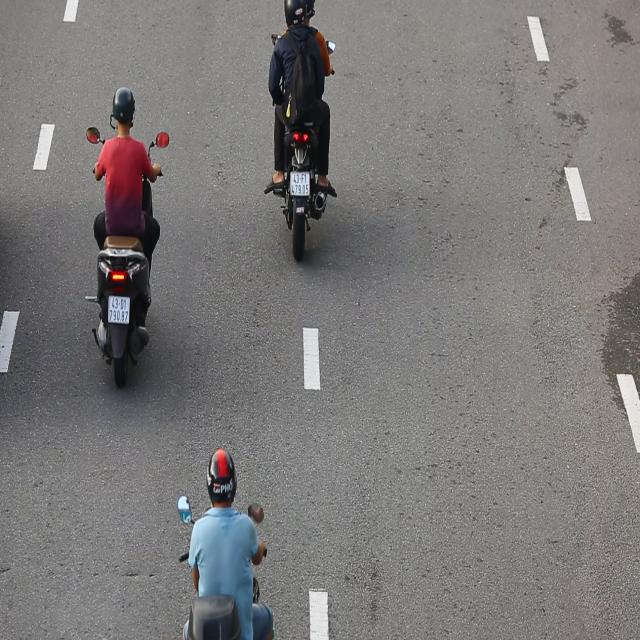motorbike: (84, 86, 168, 392), (255, 0, 348, 265)
